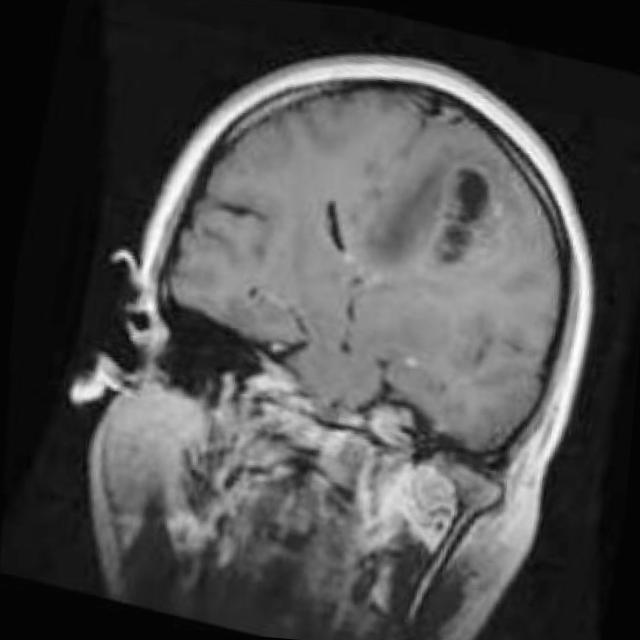MCI: (397, 156, 504, 294)
